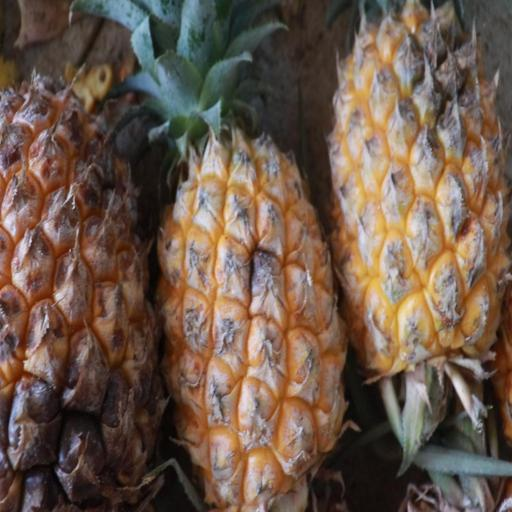Pineapple - v8 v1: (151, 50, 350, 512), (324, 0, 510, 384), (0, 59, 158, 511)
